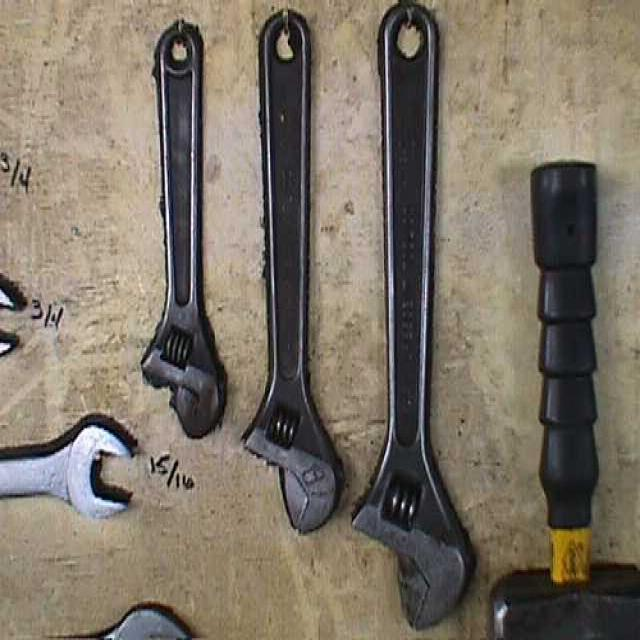wrench: (347, 0, 480, 633), (236, 2, 345, 544), (140, 14, 232, 448), (0, 409, 144, 524)
